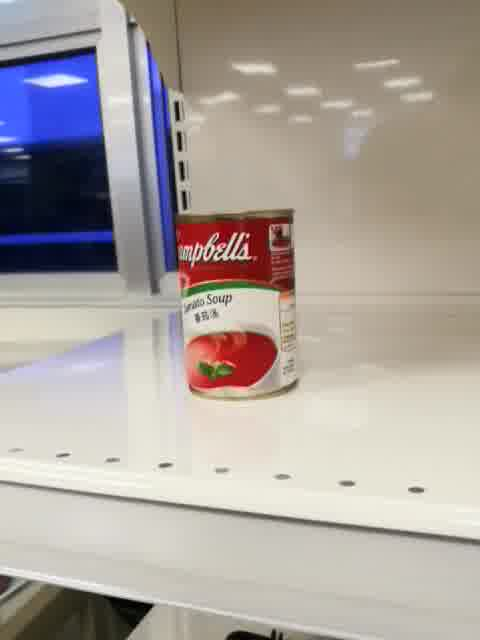tomatosoup: (171, 208, 301, 402)
